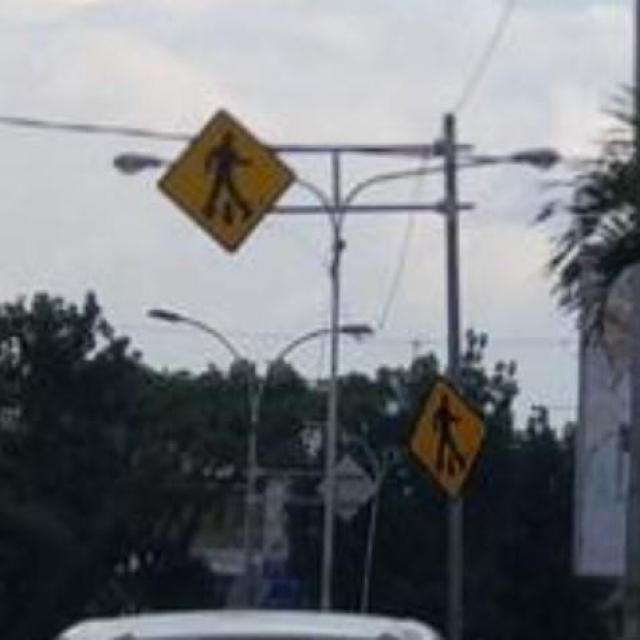traffic sign: (163, 108, 297, 250), (407, 383, 485, 492)
